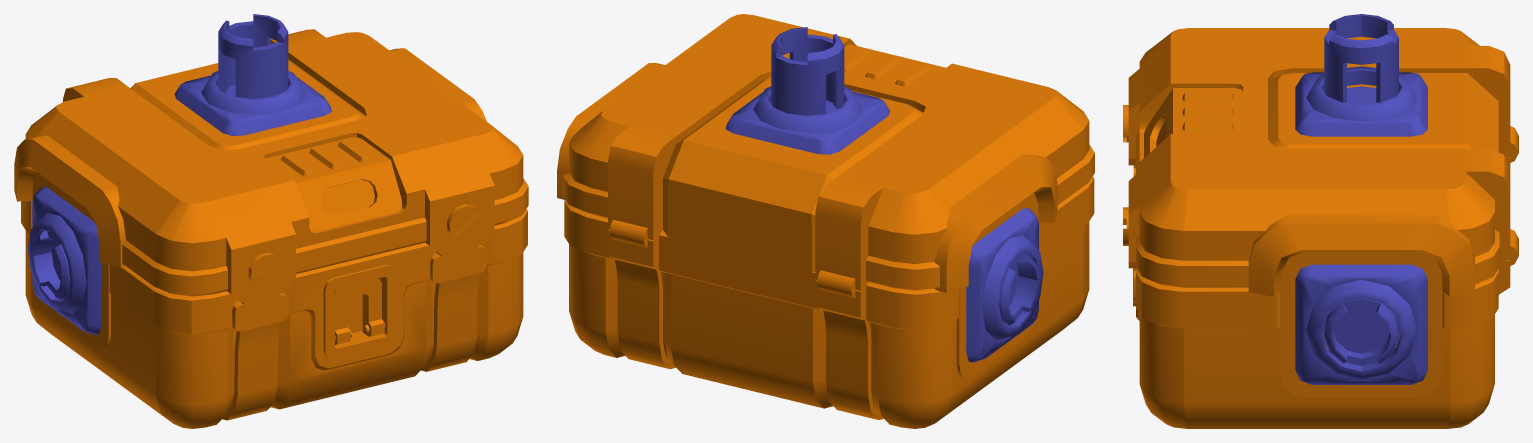
The model's file is obj_interactive_chest_pose3.fbx.
The picture shows the model from 3 angles, left to right: view 1: azimuth 30°, elevation 25°; view 2: azimuth 150°, elevation 25°; view 3: azimuth 270°, elevation 25°; orthographic projection. The views are drawn at different scales.
Visible parts, largest first — view 1: obj_interactive_chest_pose0; view 2: obj_interactive_chest_pose0; view 3: obj_interactive_chest_pose0.
Part boxes in pixels (x1=…): obj_interactive_chest_pose0: x1=14, y1=14, x2=528, y2=428; obj_interactive_chest_pose0: x1=557, y1=14, x2=1094, y2=428; obj_interactive_chest_pose0: x1=1123, y1=14, x2=1518, y2=428.
Size of the model in its own units: 5.71 by 4 by 4.46.
